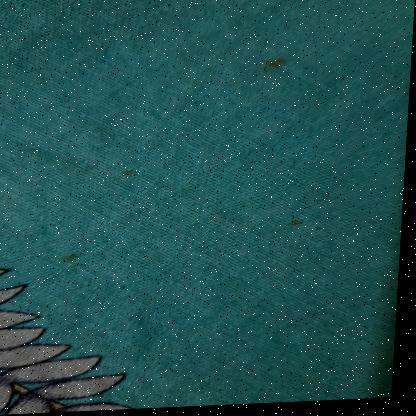spot: (268, 53, 304, 78), (114, 166, 145, 184)
